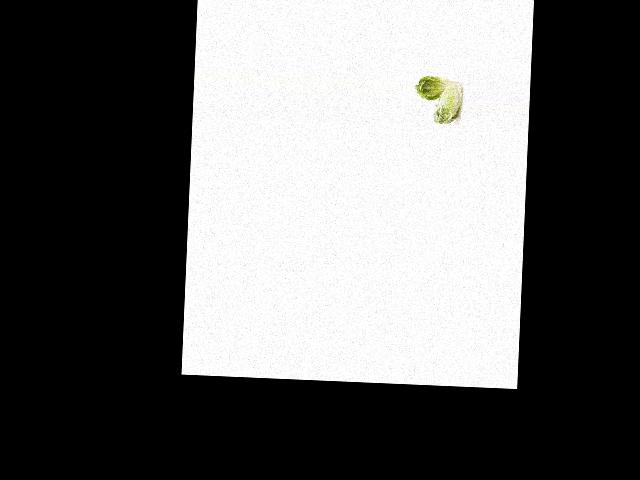lettuce: (430, 77, 464, 127)
